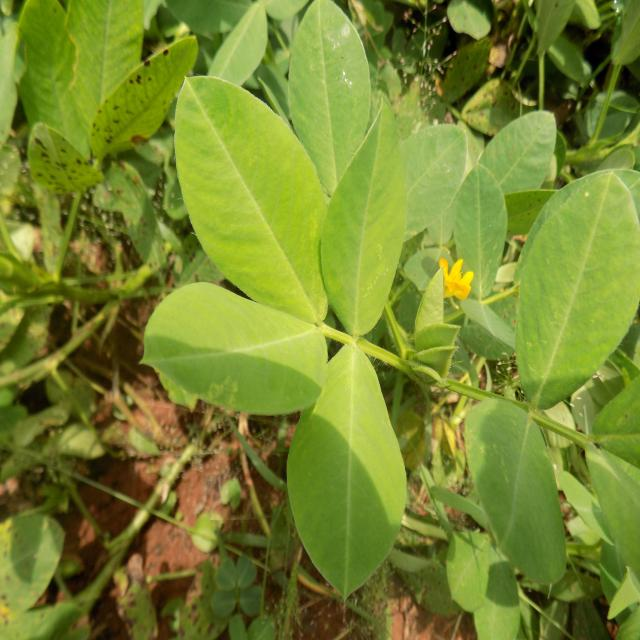Ground nut_healthy: (178, 75, 338, 323), (287, 338, 405, 598), (514, 169, 640, 412), (143, 280, 327, 417), (321, 95, 411, 336)
